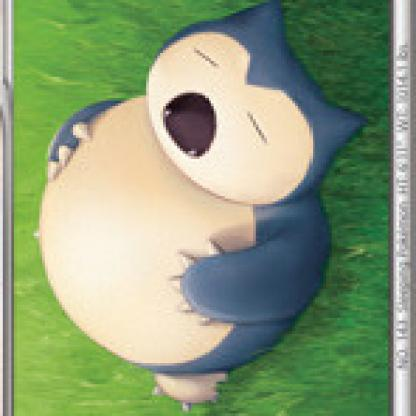Snorlax: (31, 21, 377, 408)
